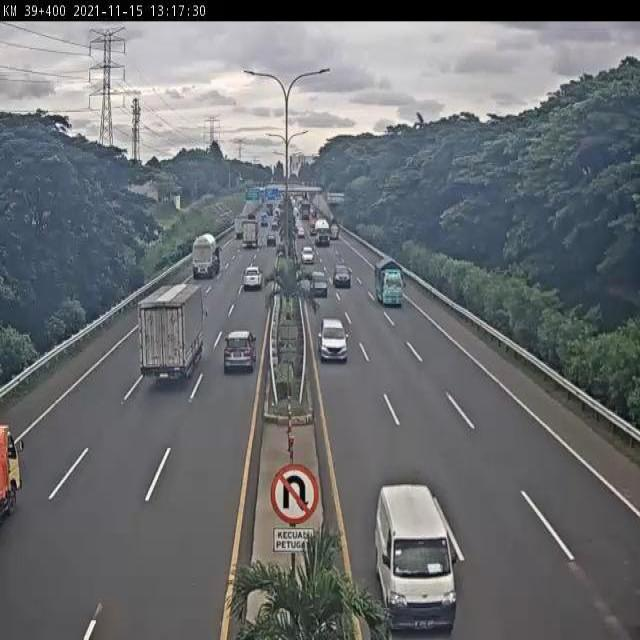ARABA: (222, 328, 257, 375), (318, 317, 350, 364), (307, 268, 328, 301), (330, 262, 354, 290), (242, 264, 262, 292)
KAMYONET: (138, 281, 206, 388), (370, 256, 406, 308)
OTOBUS: (373, 480, 459, 640)
TIR: (189, 231, 221, 280)
